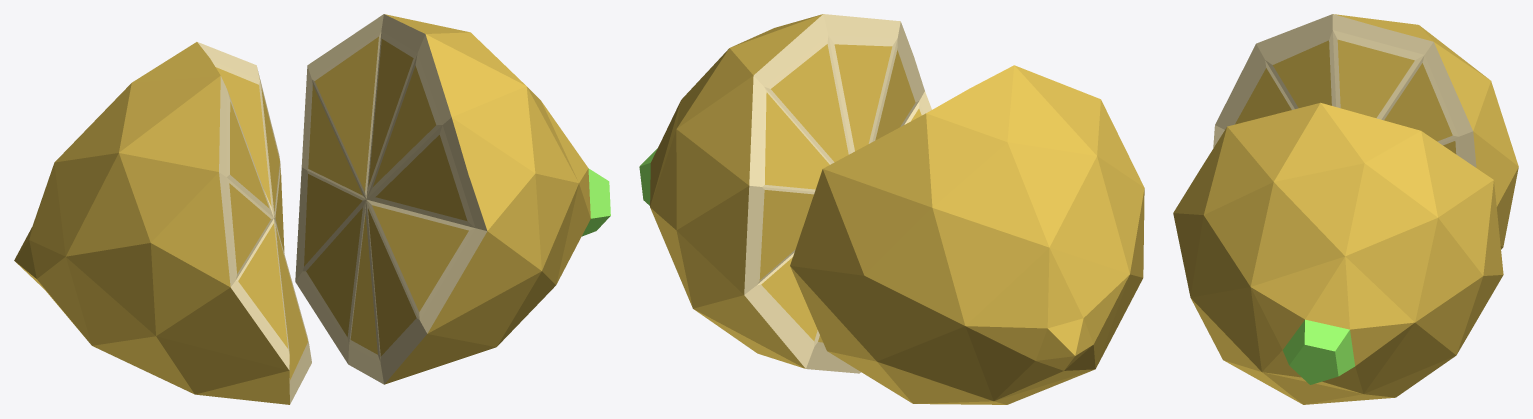
File: lemon_cut.fbx
3 views of the same model, side by side, from view 1: azimuth 30°, elevation 25°; view 2: azimuth 150°, elevation 25°; view 3: azimuth 270°, elevation 25° (orthographic). The views are drawn at different scales.
Parts seen in each view (by area): view 1: lemon_cut; view 2: lemon_cut; view 3: lemon_cut.
Part boxes in pixels (left/top/right/bottom): lemon_cut: left=14, top=14, right=610, bottom=404; lemon_cut: left=639, top=14, right=1144, bottom=404; lemon_cut: left=1173, top=14, right=1518, bottom=404.
Size of the model in its own units: 164 by 102 by 107.
